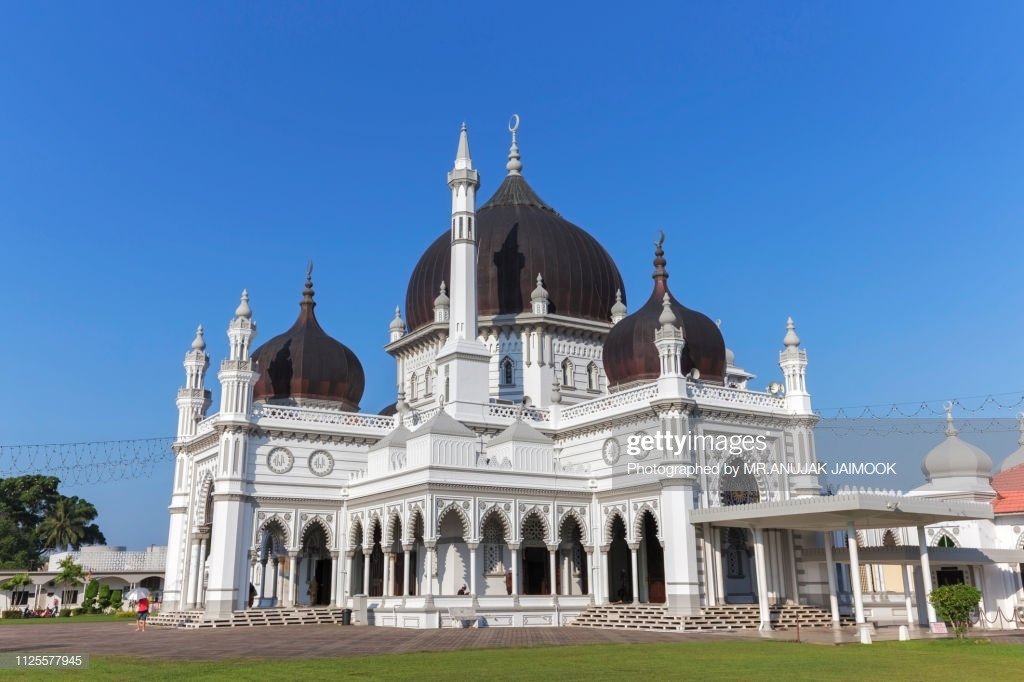Mosque: (163, 112, 819, 622)
